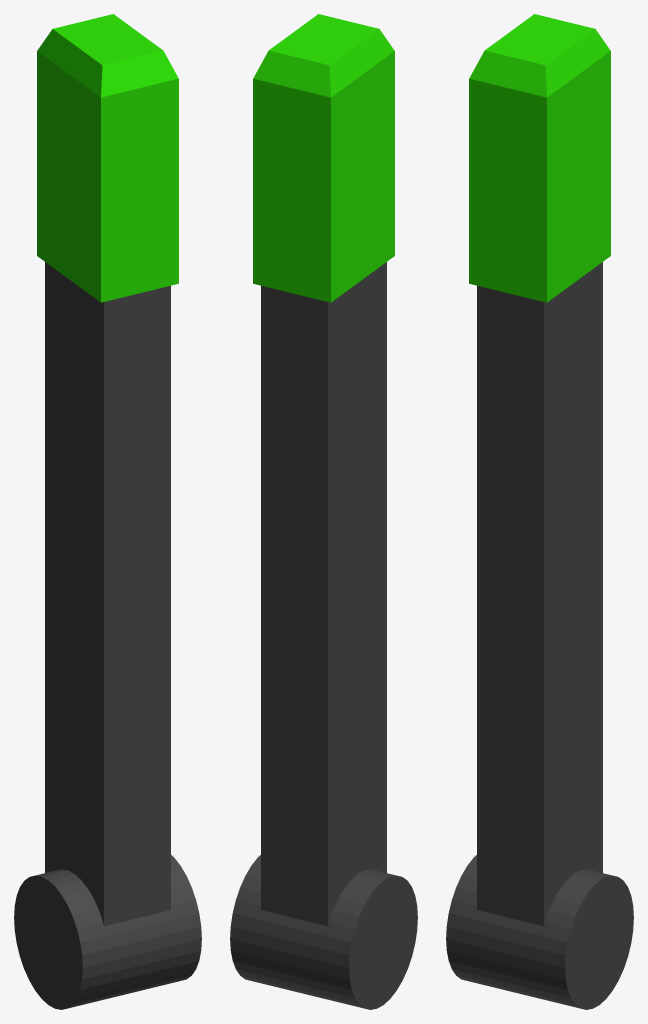
The model's file is GreenLeverWOB.glb.
3 renders of one model, left to right at view 1: azimuth 30°, elevation 25°; view 2: azimuth 150°, elevation 25°; view 3: azimuth 330°, elevation 25°, orthographic.
Parts seen in each view (by area): view 1: Handle, Top; view 2: Handle, Top; view 3: Handle, Top.
Part boxes in pixels (x1,y1,x2,y2): Handle: (14,262,201,1009); Top: (37,14,178,302); Handle: (230,262,417,1009); Top: (253,14,394,302); Handle: (446,262,633,1009); Top: (469,14,610,302).
Bounding box in the file's own units: 0.1393 × 1.06 × 0.1393.
